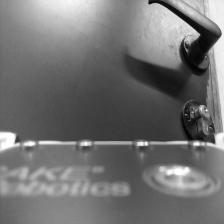Door Handle: (147, 0, 222, 75)
Lock: (181, 98, 217, 144)
